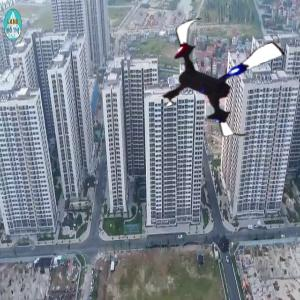drone: (153, 8, 289, 144)
